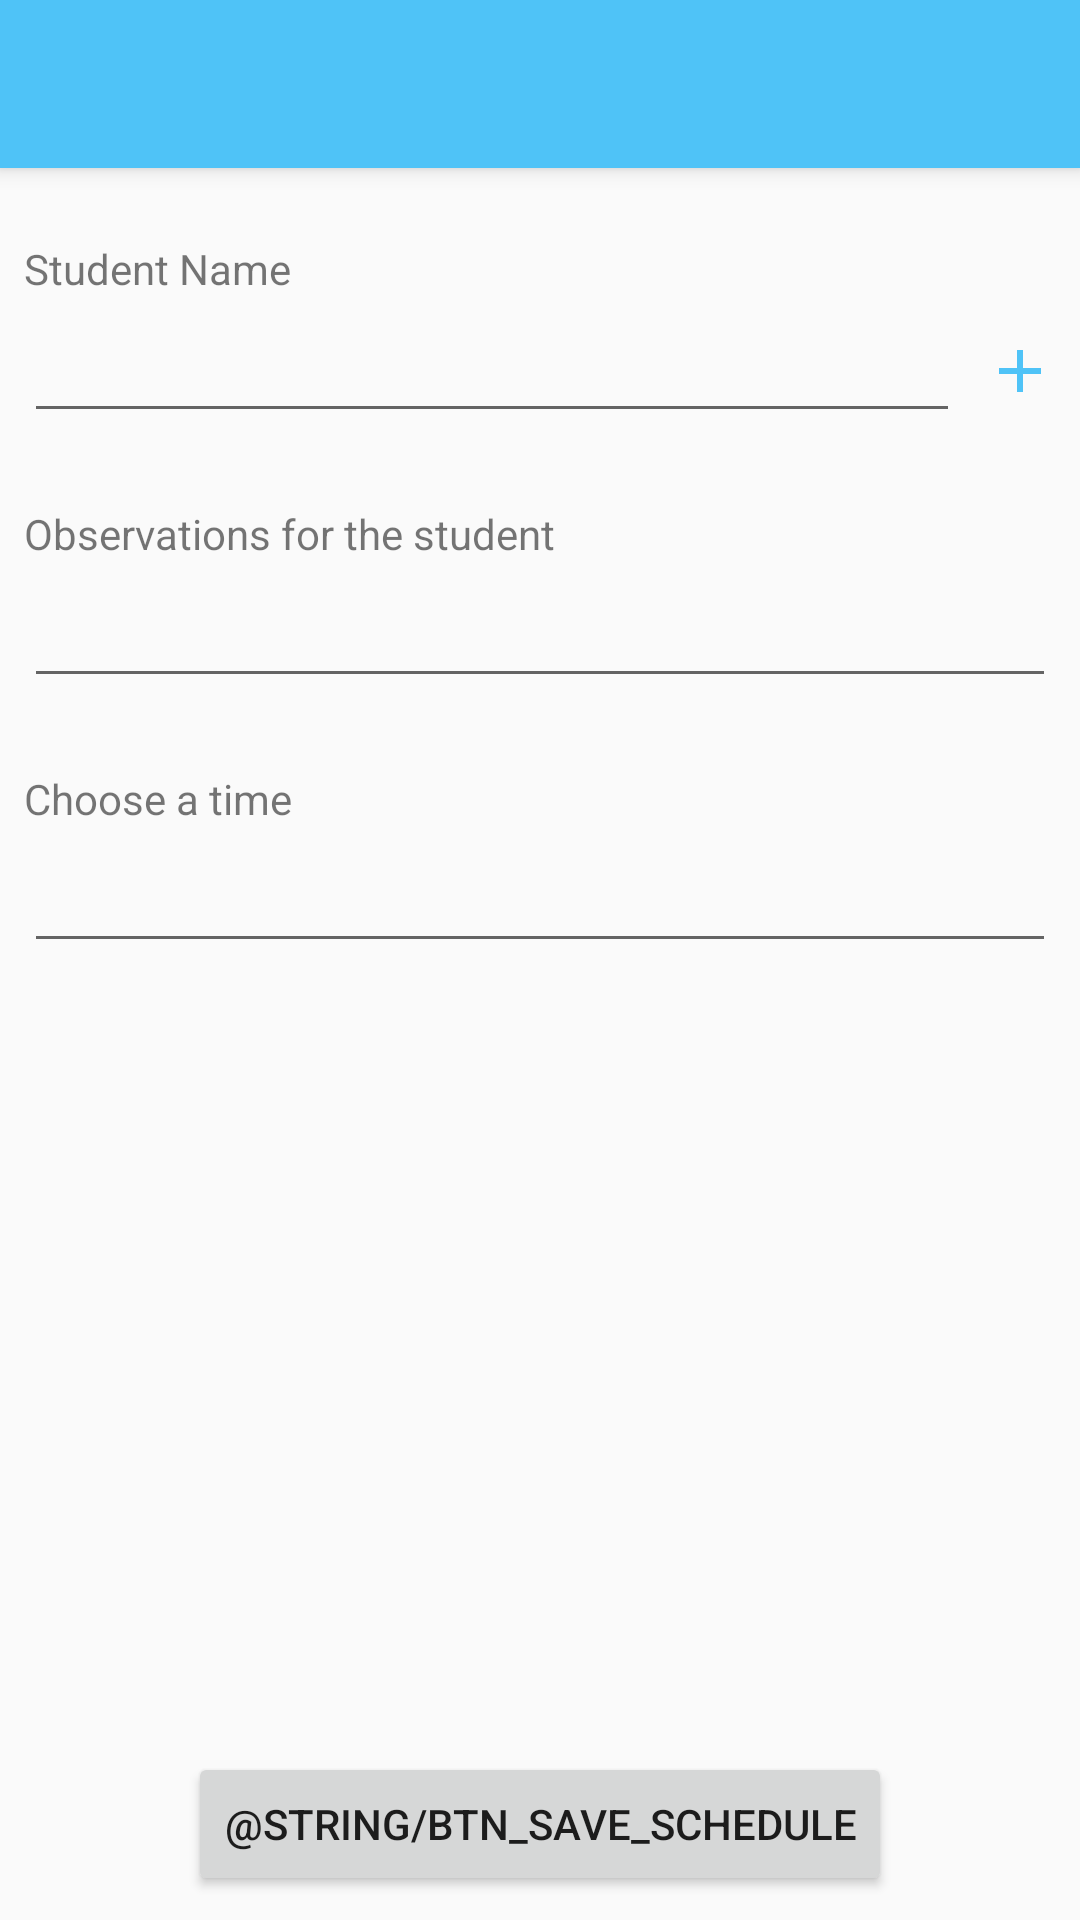

Point at icon controls on the screen. Image size 1080x1920, points as (x=x, y=y).
add: (x=1020, y=371)
